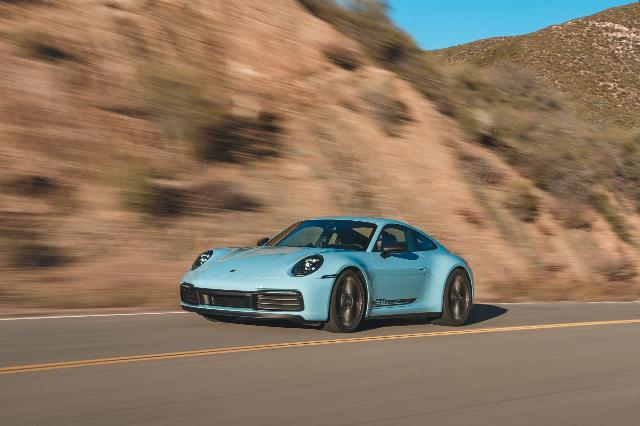porsche: (179, 214, 475, 333)
